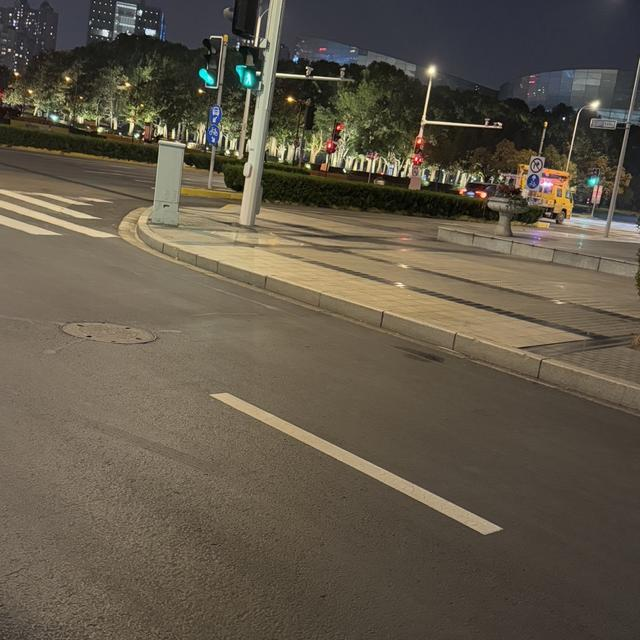curb: (136, 217, 639, 415), (438, 229, 638, 278), (0, 144, 153, 166), (183, 186, 242, 200)
